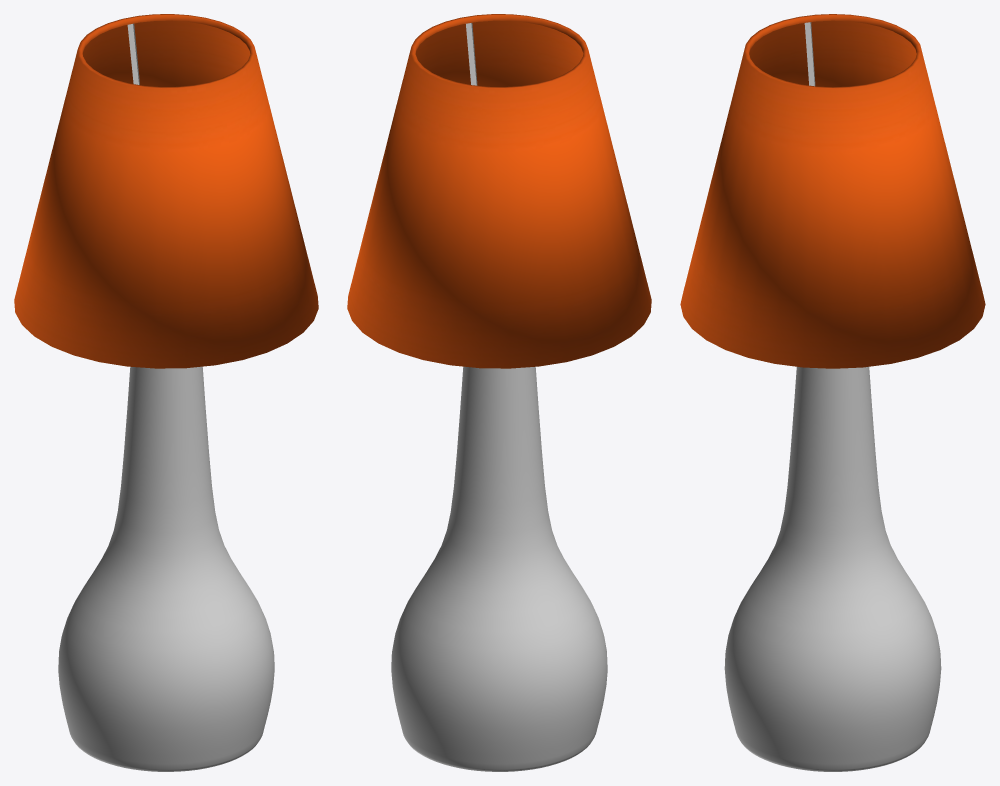
Rendered from lamp_floor.glb.
The picture shows the model from 3 angles, left to right: view 1: azimuth 30°, elevation 25°; view 2: azimuth 150°, elevation 25°; view 3: azimuth 270°, elevation 25°; orthographic projection.
Parts seen in each view (by area): view 1: lampshade_off_multila_lampshade_off_multila_lampshade_off_mu, ceramicbase_ceramicbase_ceramicbase.001, lampshade_off_mul_lampshade_off_mul_lampshade_off_mul_multil; view 2: lampshade_off_multila_lampshade_off_multila_lampshade_off_mu, ceramicbase_ceramicbase_ceramicbase.001, lampshade_off_mul_lampshade_off_mul_lampshade_off_mul_multil; view 3: lampshade_off_multila_lampshade_off_multila_lampshade_off_mu, ceramicbase_ceramicbase_ceramicbase.001, lampshade_off_mul_lampshade_off_mul_lampshade_off_mul_multil.
Boxes of the visible parts, x1,y1,x2,y2 form: lampshade_off_multila_lampshade_off_multila_lampshade_off_mu: (14, 14, 318, 368); ceramicbase_ceramicbase_ceramicbase.001: (58, 366, 274, 771); lampshade_off_mul_lampshade_off_mul_lampshade_off_mul_multil: (82, 20, 250, 86); lampshade_off_multila_lampshade_off_multila_lampshade_off_mu: (347, 14, 651, 368); ceramicbase_ceramicbase_ceramicbase.001: (391, 366, 607, 771); lampshade_off_mul_lampshade_off_mul_lampshade_off_mul_multil: (415, 20, 583, 86); lampshade_off_multila_lampshade_off_multila_lampshade_off_mu: (680, 14, 985, 368); ceramicbase_ceramicbase_ceramicbase.001: (724, 366, 941, 771); lampshade_off_mul_lampshade_off_mul_lampshade_off_mul_multil: (749, 20, 916, 87).
Bounding box in the file's own units: 0.679 × 1.67 × 0.679.
6 materials, 1 textured.
